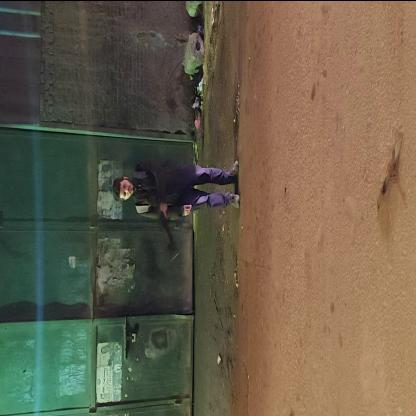long weapon: (147, 187, 183, 263)
